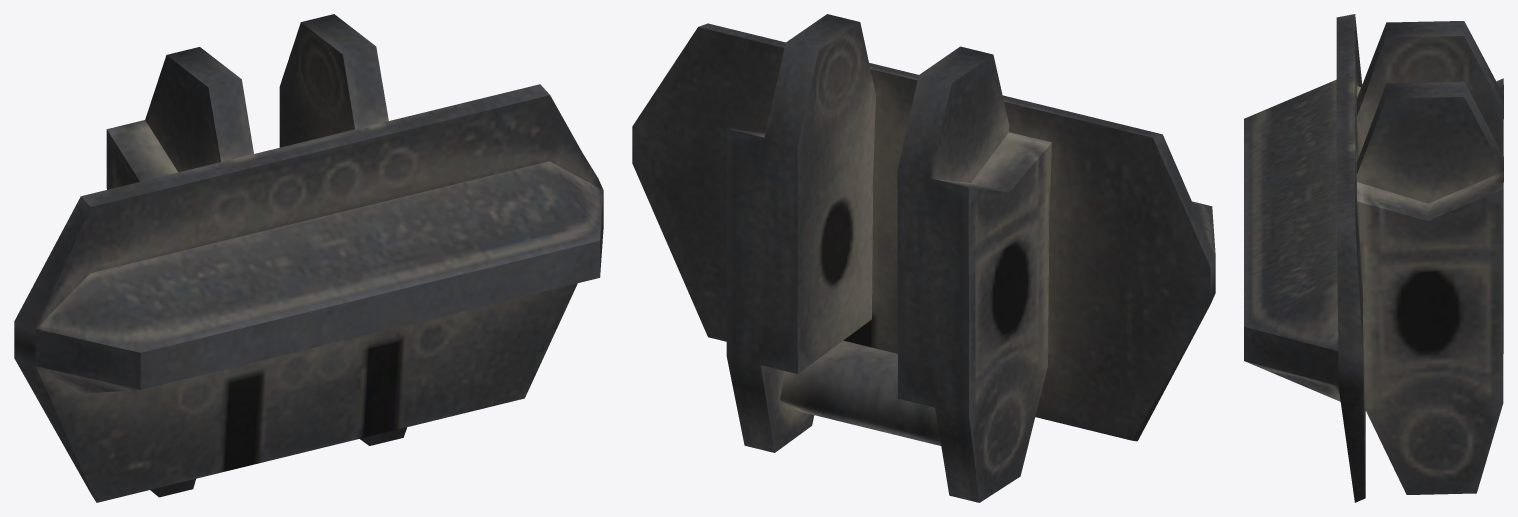
The picture shows the model from 3 angles, left to right: view 1: azimuth 30°, elevation 25°; view 2: azimuth 150°, elevation 25°; view 3: azimuth 270°, elevation 25°; orthographic projection. The views are drawn at different scales.
Parts seen in each view (by area): view 1: set_0_group_0; view 2: set_0_group_0; view 3: set_0_group_0.
Part boxes in pixels (box(x1,y1,x2,y2)): set_0_group_0: box(14, 14, 603, 502); set_0_group_0: box(632, 14, 1215, 502); set_0_group_0: box(1244, 14, 1503, 502).
Size of the model in its own units: 0.3181 by 0.2136 by 0.132.
Materials: 1 (1 with a texture image).
